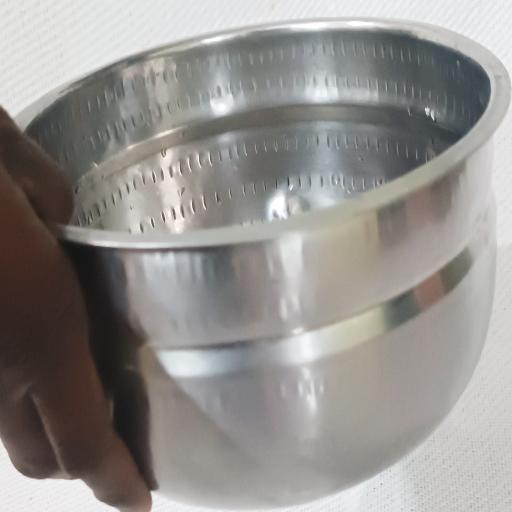vessel: (17, 19, 510, 507)
